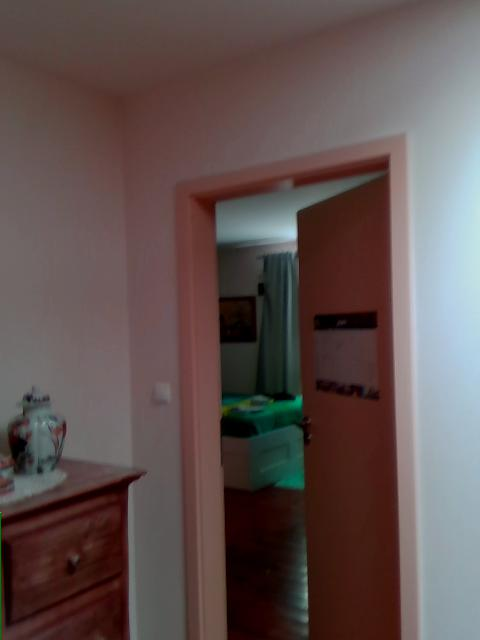semi_door: (175, 130, 422, 639)
